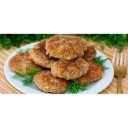cutlet: (46, 35, 87, 58), (33, 72, 67, 94), (51, 60, 89, 78), (32, 39, 54, 68), (10, 54, 37, 73)
